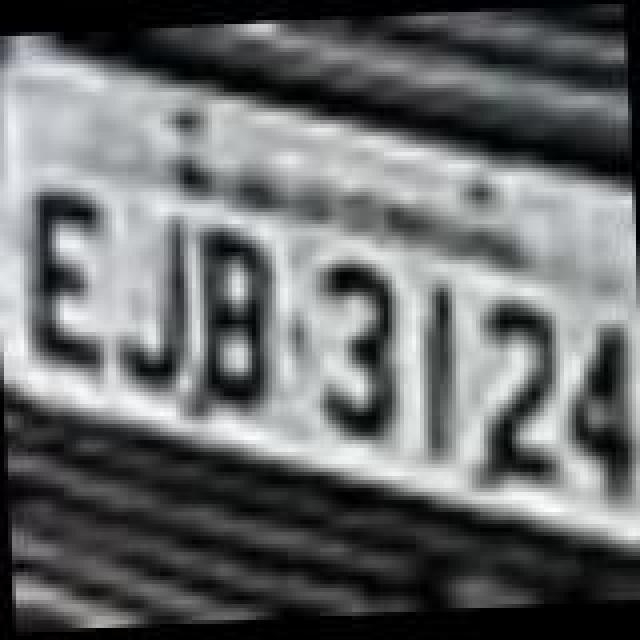1: (412, 282, 468, 470)
2: (480, 294, 560, 490)
3: (310, 254, 410, 450)
4: (562, 316, 638, 516)
B: (198, 224, 282, 416)
E: (26, 180, 118, 380)
J: (106, 206, 198, 394)
